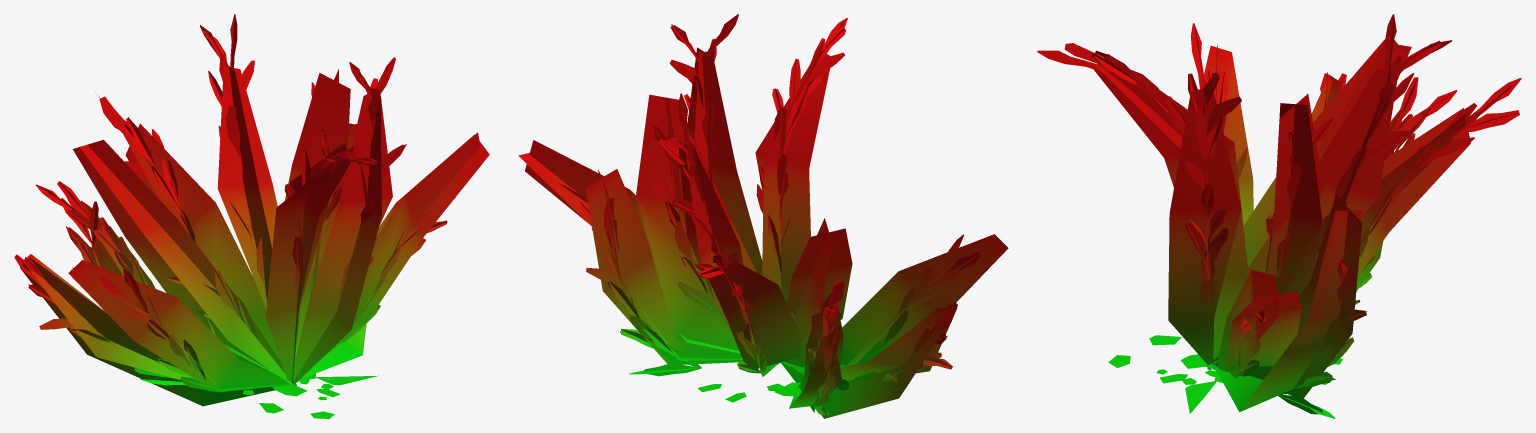
Rendered from River Saltbush_LOD2_Var8_vdfpcgbia.fbx.
3 views of the same model, side by side, from view 1: azimuth 30°, elevation 25°; view 2: azimuth 150°, elevation 25°; view 3: azimuth 270°, elevation 25° (orthographic). The views are drawn at different scales.
Parts seen in each view (by area): view 1: _jeh9_Var8_LOD2; view 2: _jeh9_Var8_LOD2; view 3: _jeh9_Var8_LOD2.
Boxes of the visible parts, x1=… form: _jeh9_Var8_LOD2: x1=14, y1=14, x2=489, y2=418; _jeh9_Var8_LOD2: x1=518, y1=14, x2=1008, y2=418; _jeh9_Var8_LOD2: x1=1037, y1=14, x2=1521, y2=418.
Bounding box in the file's own units: 27.53 × 20.26 × 22.27.
